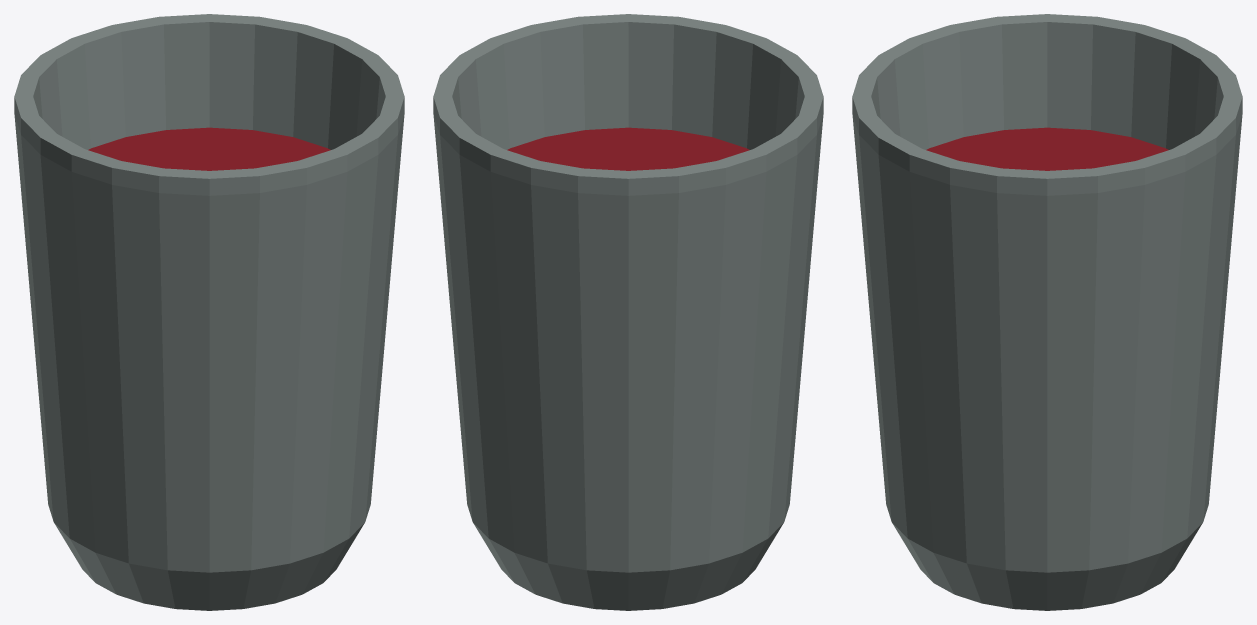
File: Glass.fbx
3 views of the same model, side by side, from view 1: azimuth 30°, elevation 25°; view 2: azimuth 150°, elevation 25°; view 3: azimuth 270°, elevation 25° (orthographic).
Parts seen in each view (by area): view 1: tumbler, Liquid; view 2: tumbler, Liquid; view 3: tumbler, Liquid.
Boxes of the visible parts, x1,y1,x2,y2 form: tumbler: [14, 14, 404, 610]; Liquid: [88, 127, 330, 170]; tumbler: [433, 14, 823, 610]; Liquid: [507, 127, 749, 170]; tumbler: [852, 14, 1242, 610]; Liquid: [926, 127, 1168, 170].
Bounding box in the file's own units: 10.4 × 13.5 × 10.4.
